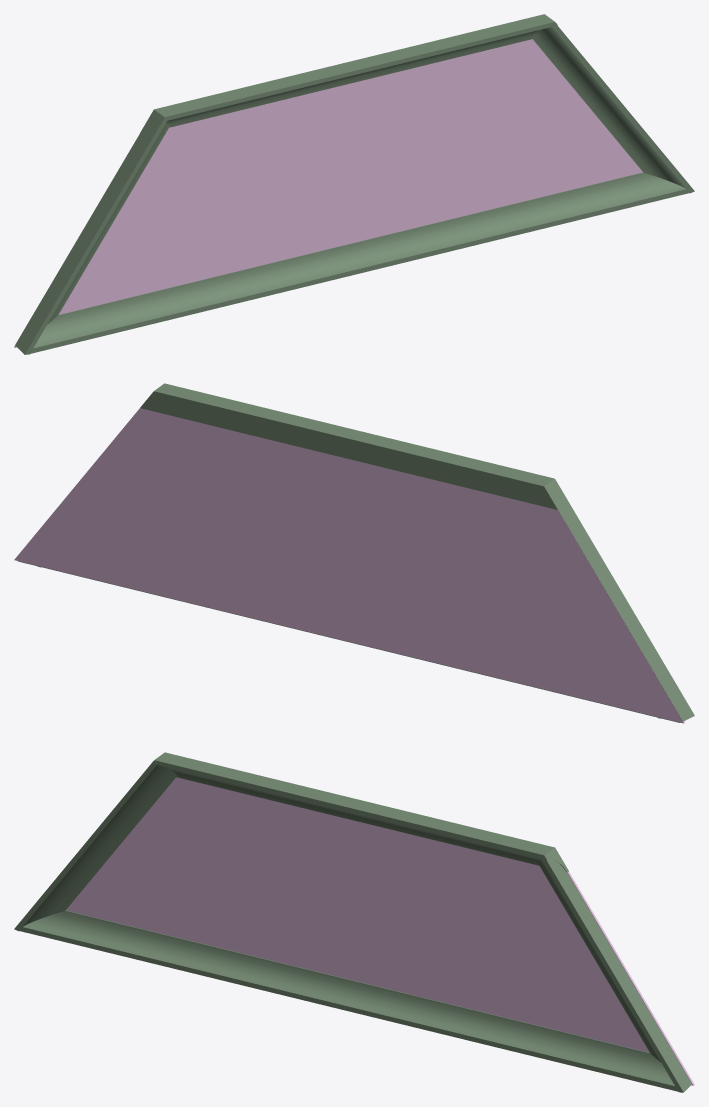
Rendered from Ceiling_Plate.fbx.
The picture shows the model from 3 angles, top to bottom: view 1: azimuth 30°, elevation 25°; view 2: azimuth 150°, elevation 25°; view 3: azimuth 330°, elevation 25°; orthographic projection.
Parts seen in each view (by area): view 1: Base1, Ceiling_edge, Ceiling_edge1, Ceiling_edge_upper; view 2: Base1, Ceiling_edge_upper, Ceiling_edge1, Ceiling_edge; view 3: Base1, Ceiling_edge, Ceiling_edge1, Ceiling_edge_upper.
Boxes of the visible parts, x1,y1,x2,y2 form: Base1: (14, 39, 642, 347); Ceiling_edge: (30, 172, 689, 353); Ceiling_edge1: (15, 22, 694, 354); Ceiling_edge_upper: (140, 14, 557, 132); Base1: (14, 408, 685, 723); Ceiling_edge_upper: (140, 383, 557, 509); Ceiling_edge1: (38, 478, 694, 721); Ceiling_edge: (18, 561, 680, 722); Base1: (66, 777, 694, 1085); Ceiling_edge: (19, 910, 677, 1091); Ceiling_edge1: (14, 760, 691, 1092); Ceiling_edge_upper: (154, 752, 568, 872).
Bounding box in the file's own units: 3 × 0.8731 × 0.0842.
